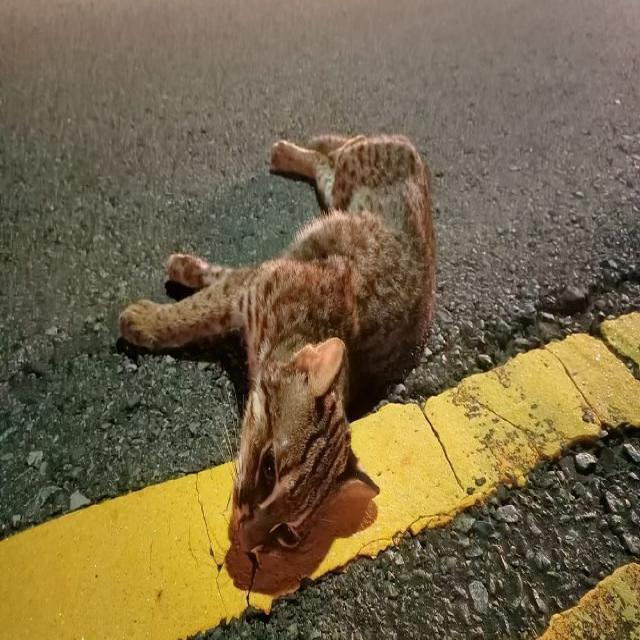leopard: (91, 131, 530, 607)
